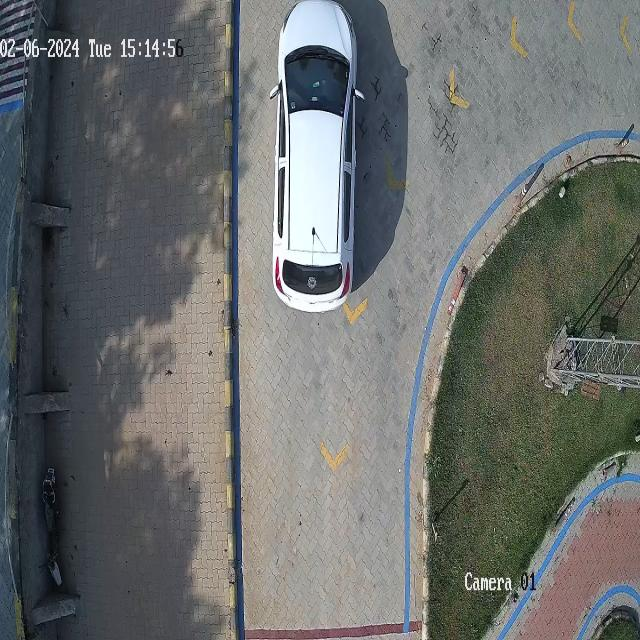car: (274, 0, 356, 311)
